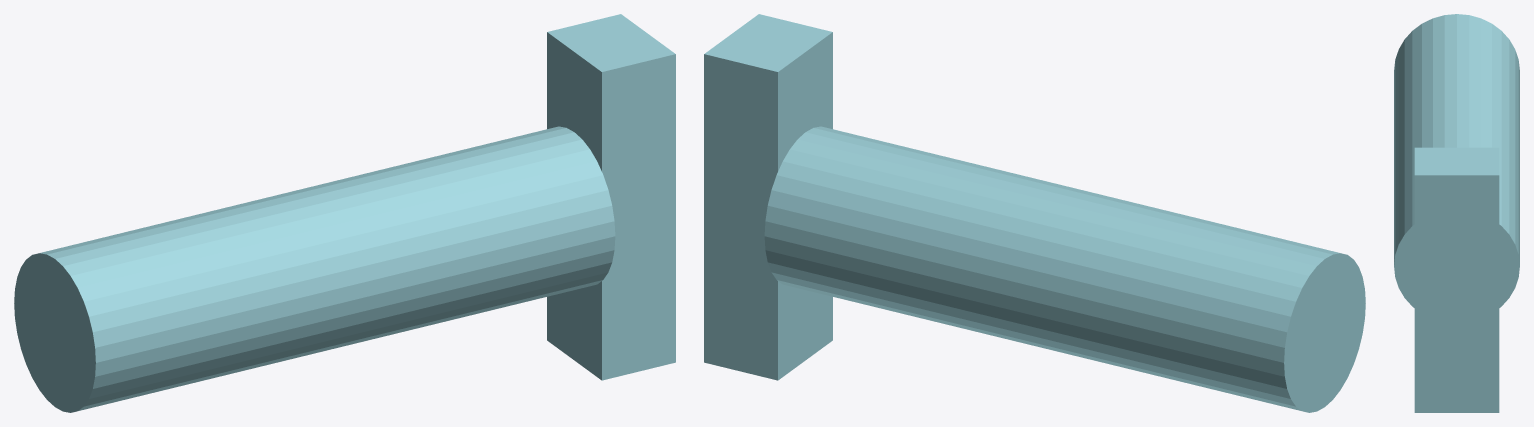
File: cylinder_hammer_v1010.obj
The picture shows the model from 3 angles, left to right: view 1: azimuth 30°, elevation 25°; view 2: azimuth 150°, elevation 25°; view 3: azimuth 270°, elevation 25°; orthographic projection. The views are drawn at different scales.
Bounding box in the file's own units: 0.1954 × 0.0971 × 0.0466.
Materials: 1 (1 with a texture image).
